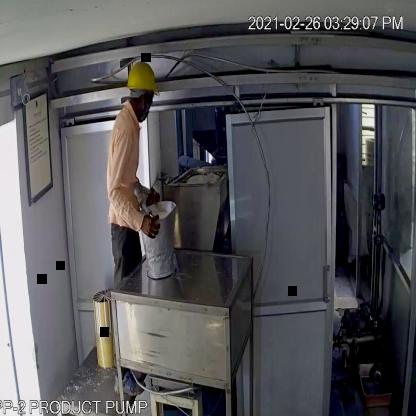helmet: (122, 59, 161, 100)
